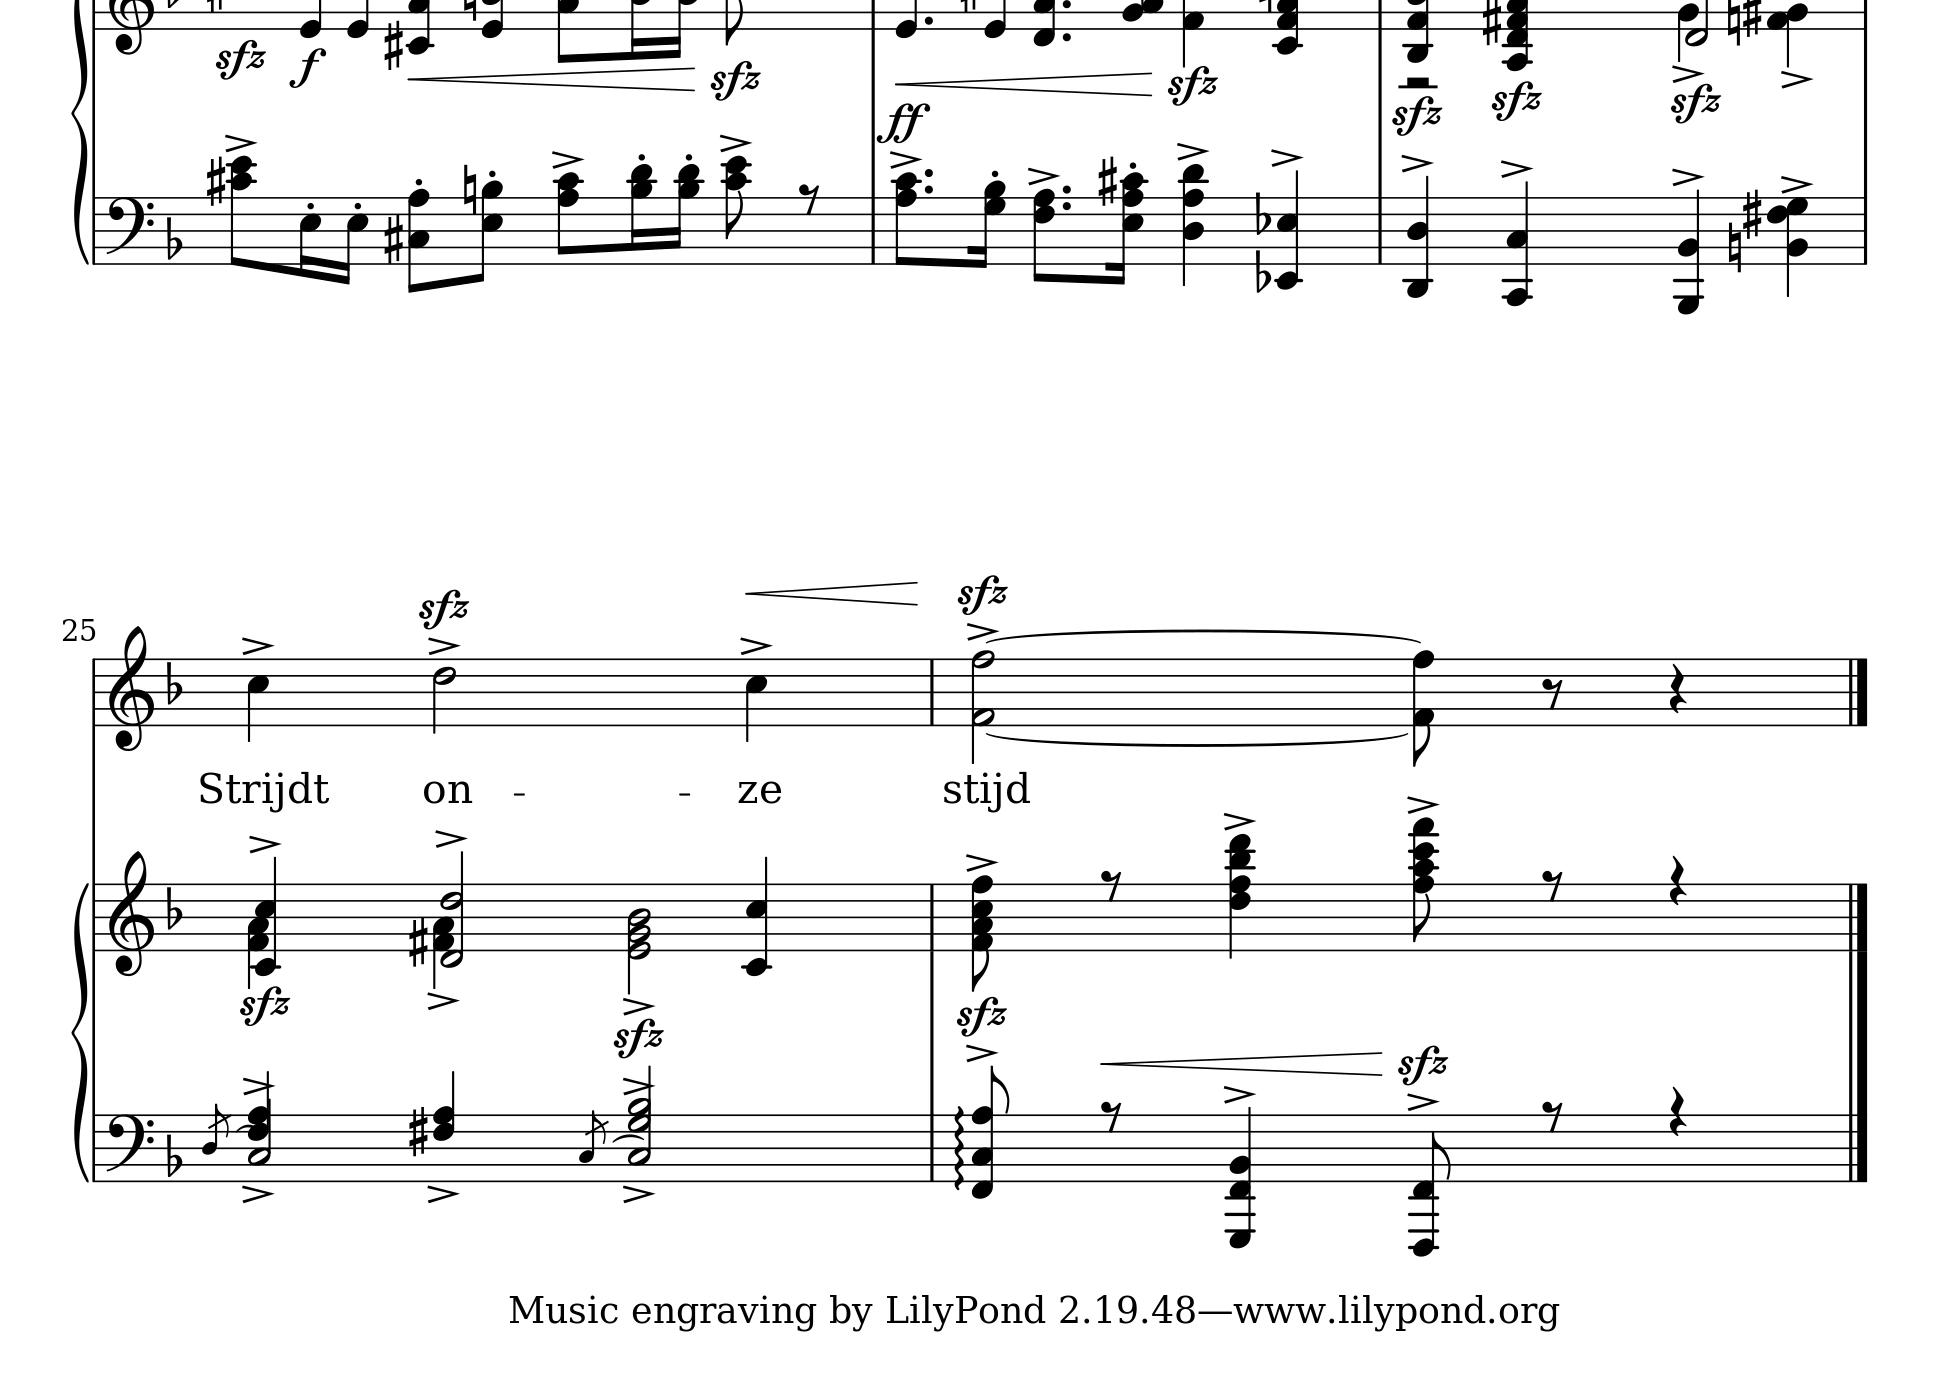16_5: (337, 196, 369, 286), (297, 196, 322, 280)
16_7_9: (964, 178, 1008, 270)
16_9_11: (670, 163, 705, 265), (625, 163, 655, 265)
2: (58, 616, 79, 643)
2_1_8: (970, 648, 996, 766)
2_6: (432, 657, 457, 735)
2_th: (625, 879, 651, 991)
4_-2_5: (739, 856, 772, 978), (1275, 169, 1305, 292)
4_-3_4: (1401, 175, 1435, 298)
4_-4_3: (1501, 181, 1536, 307)
4_-5_2: (1674, 187, 1707, 316)
4_4th: (1224, 832, 1255, 958)
4_5: (244, 657, 271, 744), (744, 655, 769, 744)
4_6_8: (430, 1071, 457, 1183)
4_th: (1227, 1101, 1257, 1249), (1179, 160, 1209, 289)
5: (79, 613, 97, 643)
8_-8_-1: (1408, 1111, 1453, 1258)
8_10_12: (226, 154, 259, 268), (720, 154, 753, 265)
8_1_8: (1410, 649, 1437, 766)
8_3_8: (405, 187, 430, 295)
8_4th: (1408, 814, 1438, 951), (969, 873, 996, 991)
8_5_9: (475, 178, 504, 283)
8_6_8: (1032, 187, 1057, 283)
8_8_10: (552, 169, 586, 267), (889, 171, 922, 267)
8_th: (970, 1065, 1009, 1201)
Accent_above: (246, 829, 282, 853), (424, 988, 460, 1011), (1404, 1090, 1441, 1111), (1399, 150, 1434, 172), (1779, 67, 1815, 88), (1269, 145, 1305, 166), (738, 634, 774, 655), (426, 634, 462, 655), (1221, 808, 1257, 829), (432, 826, 468, 847), (963, 850, 999, 871), (963, 1041, 999, 1062), (240, 1072, 271, 1096), (1221, 1081, 1257, 1102), (424, 1182, 460, 1203), (1671, 61, 1704, 84), (1500, 156, 1533, 178), (1405, 793, 1443, 813), (223, 130, 258, 151), (1176, 139, 1210, 160), (1779, 172, 1813, 193), (240, 634, 274, 655), (619, 994, 654, 1015), (1026, 165, 1062, 184), (963, 621, 999, 640), (718, 130, 751, 151), (1671, 165, 1704, 186), (550, 148, 585, 168), (240, 1183, 274, 1203), (621, 1183, 655, 1203), (888, 148, 921, 168), (619, 1075, 652, 1093)
Acciaccature: (202, 1101, 231, 1183), (577, 1108, 607, 1179)
Brace: (69, 883, 88, 1179), (70, 9, 90, 267)
Fclef: (103, 1111, 154, 1185), (103, 193, 153, 267)
Final_barline: (1842, 880, 1870, 949), (1842, 1113, 1869, 1180), (1845, 657, 1870, 724)
Flat: (163, 658, 184, 706), (163, 883, 184, 931), (165, 214, 184, 261), (163, 1131, 183, 1177), (1254, 247, 1272, 295), (1254, 189, 1272, 235)
Gclef: (106, 624, 154, 751), (106, 849, 154, 976)
Natural: (1725, 219, 1744, 274), (460, 162, 478, 217), (1725, 1, 1741, 46)
Rests4: (1666, 1083, 1689, 1137), (1668, 661, 1689, 715), (1668, 853, 1689, 907)
Rests8: (1099, 865, 1125, 901), (1540, 865, 1566, 901), (1099, 1096, 1125, 1132), (1540, 1096, 1566, 1132), (796, 181, 822, 214), (1542, 675, 1566, 709)
Sharp: (406, 1104, 430, 1159), (1740, 187, 1764, 241), (405, 915, 429, 969), (1096, 154, 1119, 208), (382, 213, 405, 265), (205, 154, 226, 208), (382, 19, 403, 72), (1480, 1, 1503, 46)
Single_barline: (922, 883, 940, 949), (922, 1114, 940, 1180), (85, 657, 102, 726), (87, 880, 103, 949), (865, 196, 882, 262), (1857, 196, 1873, 262), (924, 658, 940, 724), (88, 1113, 103, 1180), (1374, 196, 1389, 262), (88, 196, 102, 262)
Slur: (610, 1132, 643, 1144)
dot: (1059, 181, 1075, 196), (1059, 196, 1074, 213), (921, 13, 936, 27), (1060, 28, 1074, 43), (921, 181, 936, 195), (921, 166, 934, 180), (1060, 1, 1074, 10)
f: (288, 46, 327, 88)
ff: (877, 100, 931, 142)
sf: (955, 574, 996, 613)
sfz: (417, 583, 469, 634), (610, 1017, 667, 1062), (952, 993, 1009, 1038), (1165, 64, 1224, 108), (1489, 79, 1543, 126), (238, 984, 292, 1030), (709, 58, 765, 103), (1389, 94, 1441, 139), (1669, 82, 1723, 126), (1398, 1045, 1455, 1086), (213, 39, 264, 82)
